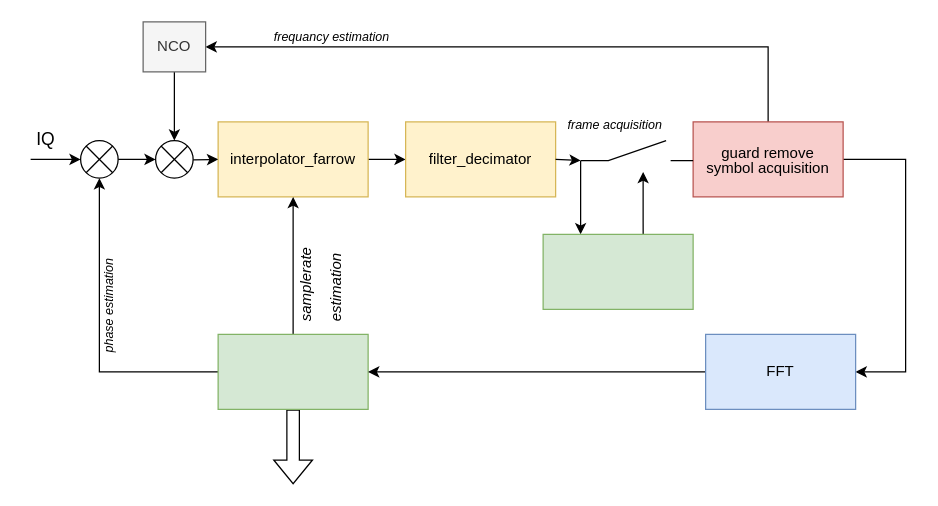
The diagram is 938 pixels wide and 506 high, and some of its shapes have lost their labels. Each missing label, with the centre of its shape:
p1_symbol: the point at 617,271
p2_symbol data_symbol fc_symbol: the point at 292,371
